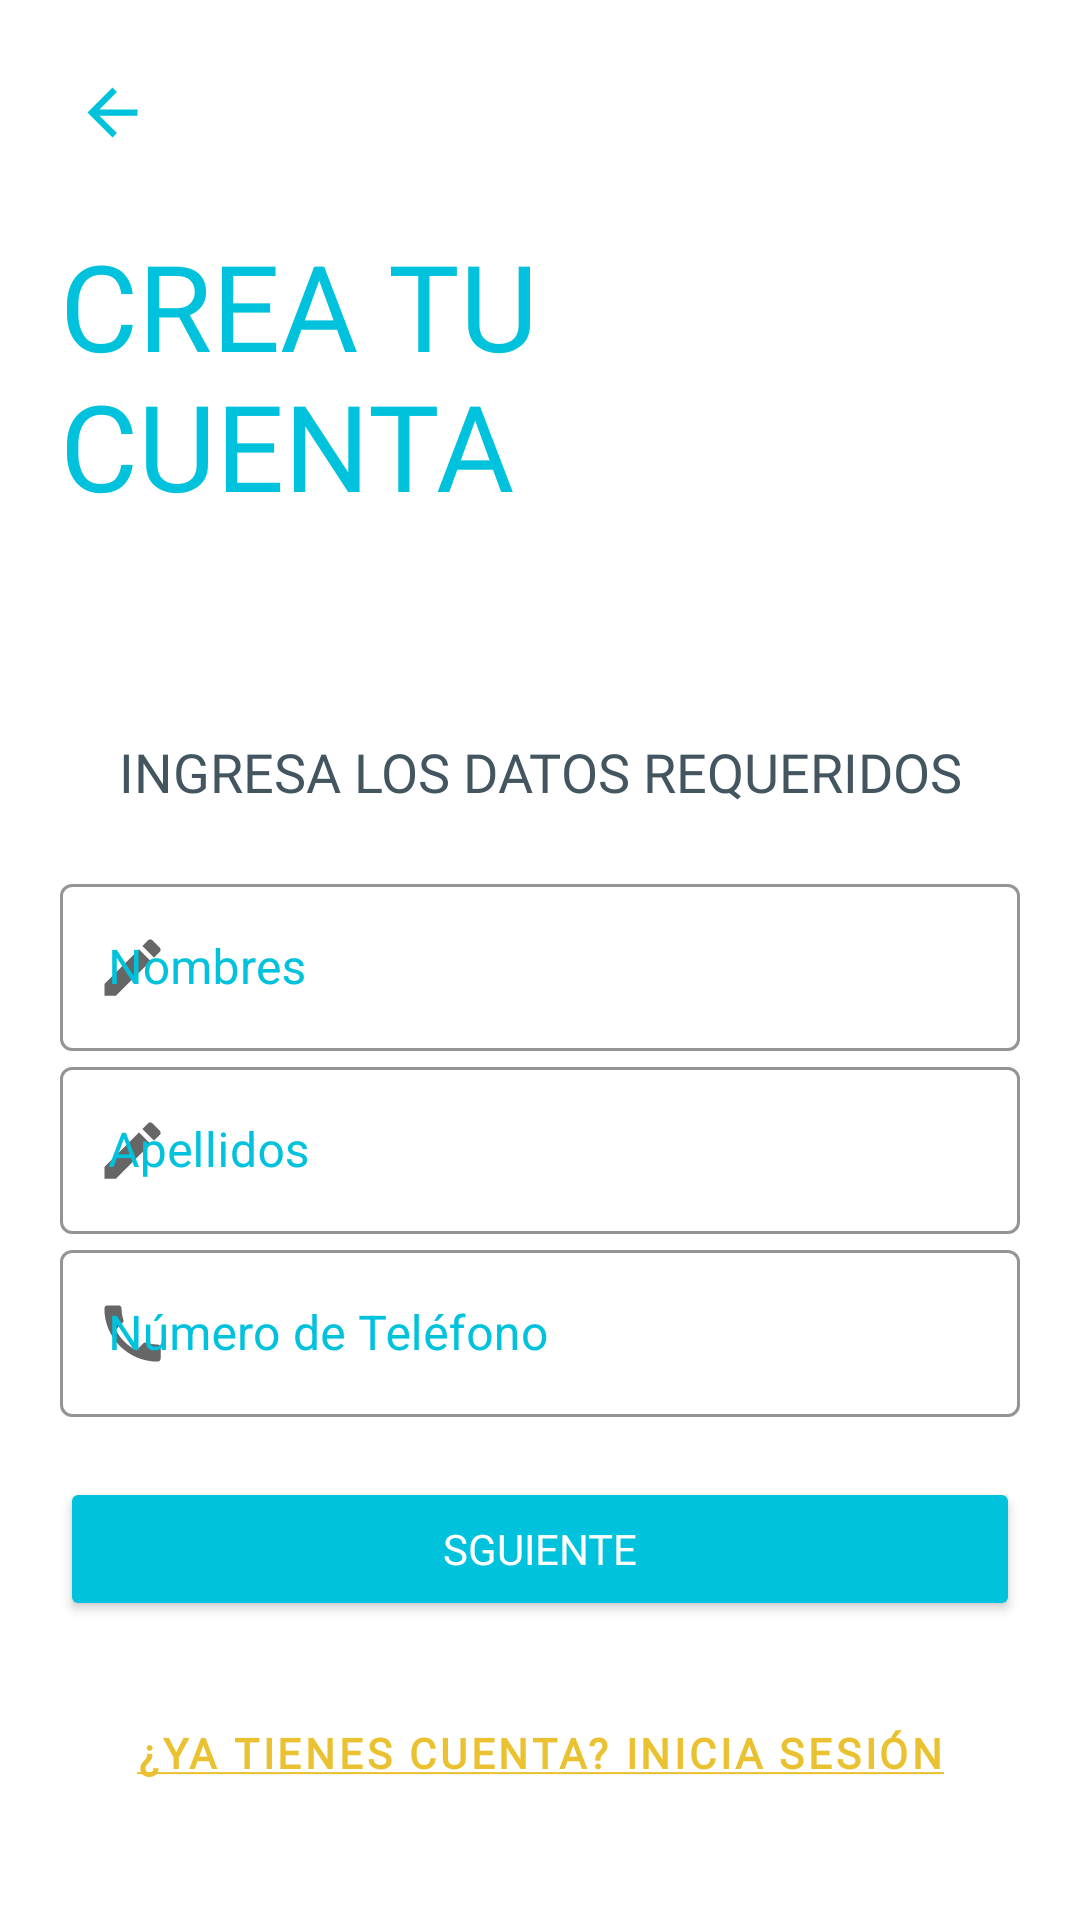

Screen size 1080px×1920px. Icon name, then its box in pixels as rect(x1, y1, x2, y2):
arrow back: rect(87, 87, 138, 138)
